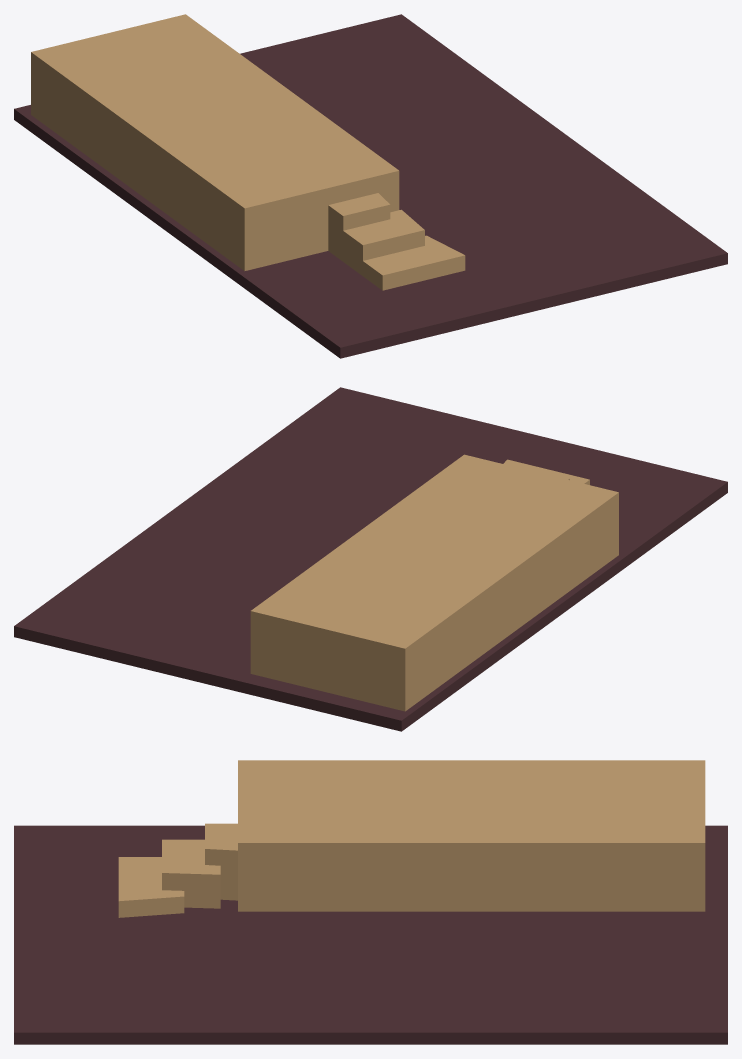
File: floor.fbx
3 views of the same model, one above another, from view 1: azimuth 30°, elevation 25°; view 2: azimuth 150°, elevation 25°; view 3: azimuth 270°, elevation 25° (orthographic). The views are drawn at different scales.
Visible parts, largest first — view 1: Cube.009; view 2: Cube.009; view 3: Cube.009.
Part boxes in pixels (bbox=[...]): Cube.009: bbox=[14, 14, 727, 358]; Cube.009: bbox=[14, 387, 727, 731]; Cube.009: bbox=[14, 760, 727, 1044].
Size of the model in its own units: 2303 by 419 by 3360.
